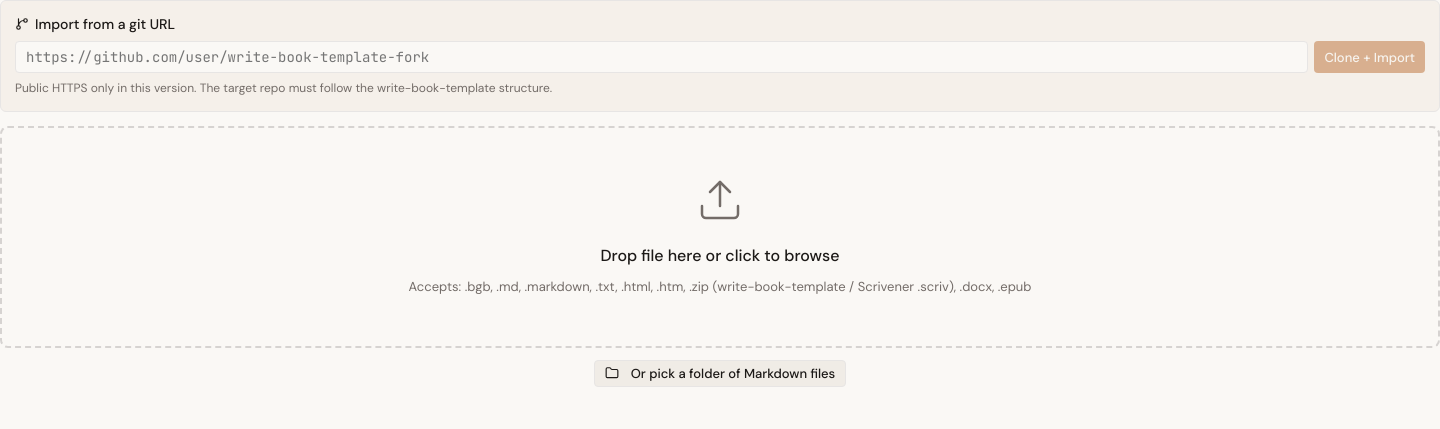
Test: UploadStep › git URL input rejects a plainly non-URL string
Type "not a url" into the field with test id "git-url-input" at (662, 57), box [15,41,1308,73]
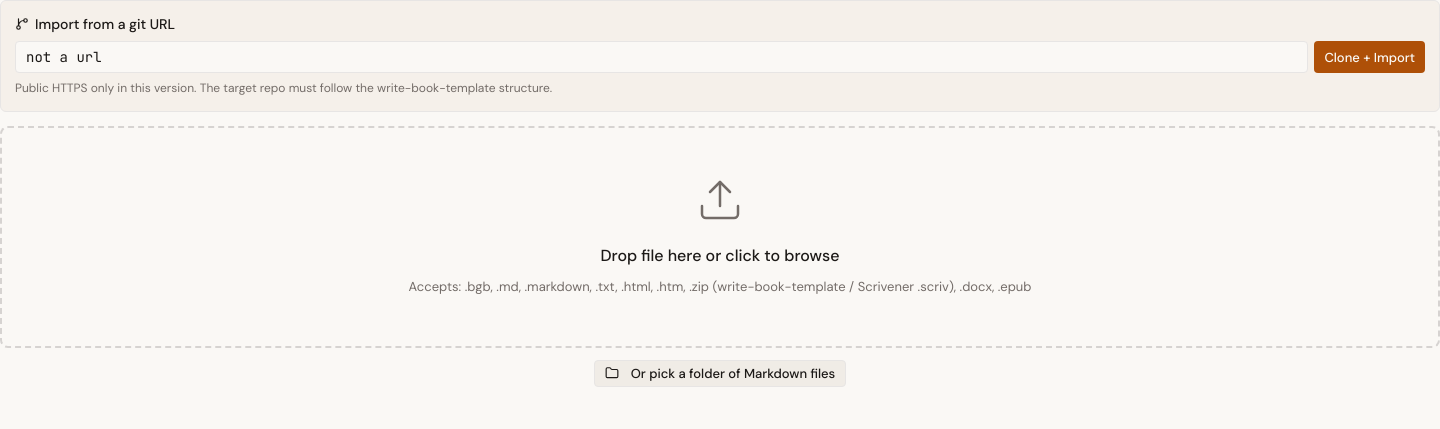
Click the button with test id "git-url-submit" at (1370, 57), box [1314,41,1425,73]
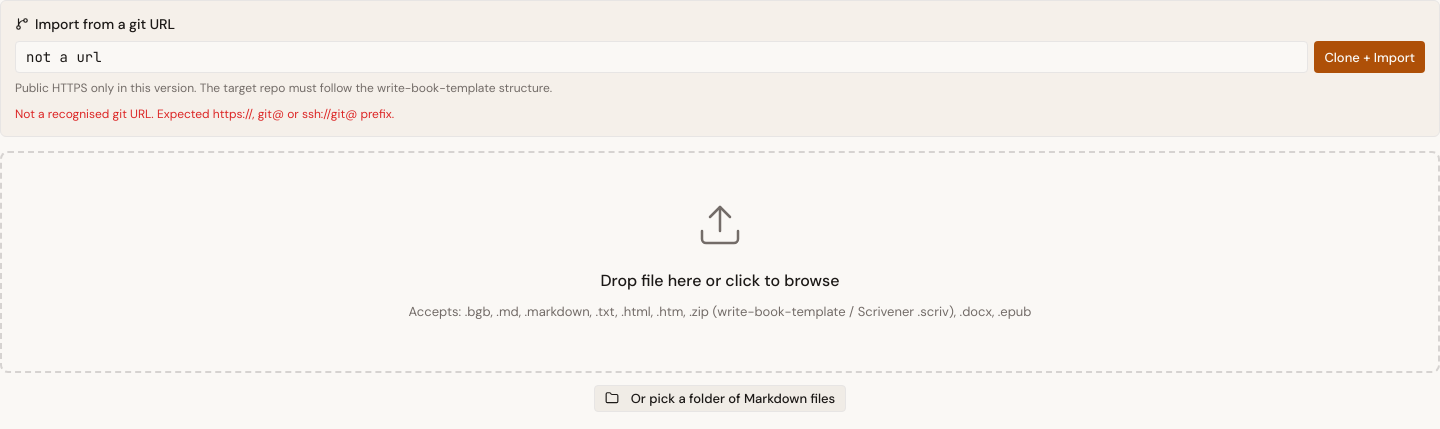
Check: the message with test id "git-url-error" shows "recognised", box [15,106,394,122]
